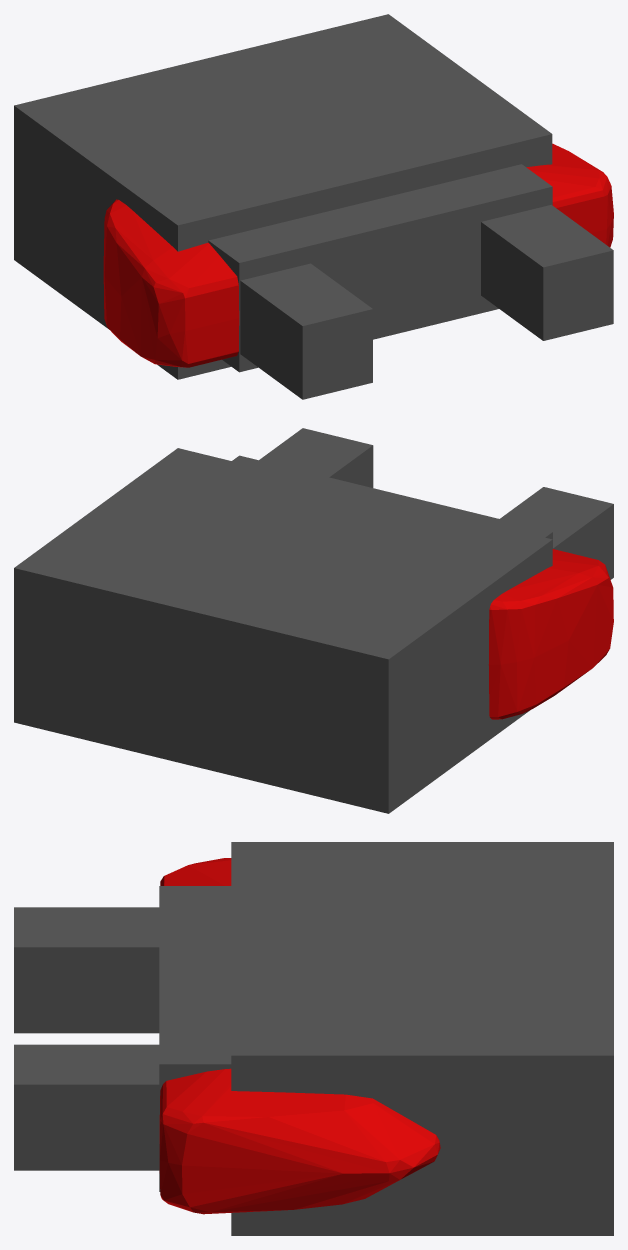
The model's file is gripper-3.obj.
3 views of the same model, one above another, from view 1: azimuth 30°, elevation 25°; view 2: azimuth 150°, elevation 25°; view 3: azimuth 270°, elevation 25° (orthographic). The views are drawn at different scales.
Size of the model in its own units: 0.2044 by 0.065 by 0.196.
